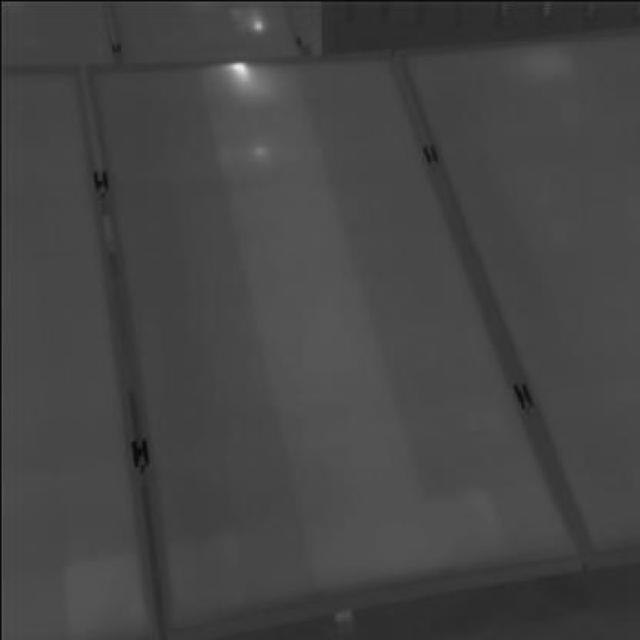hotspot: (229, 2, 269, 36), (222, 56, 252, 87)
